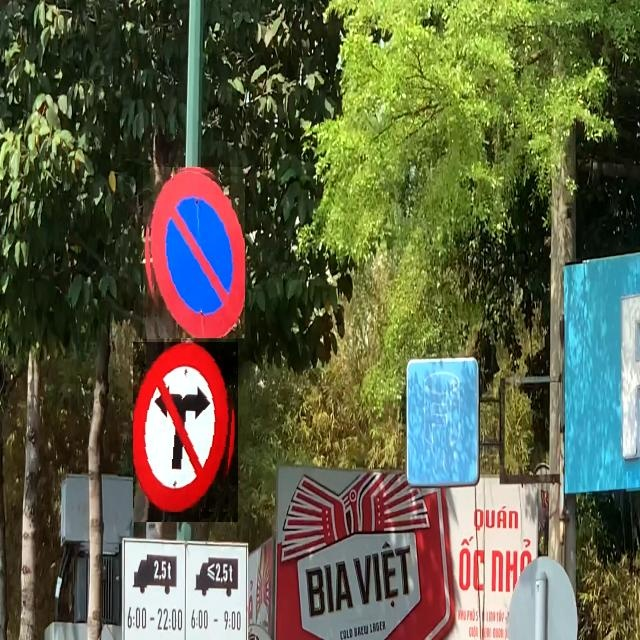bien_cam: (133, 342, 238, 522), (143, 168, 245, 340)
